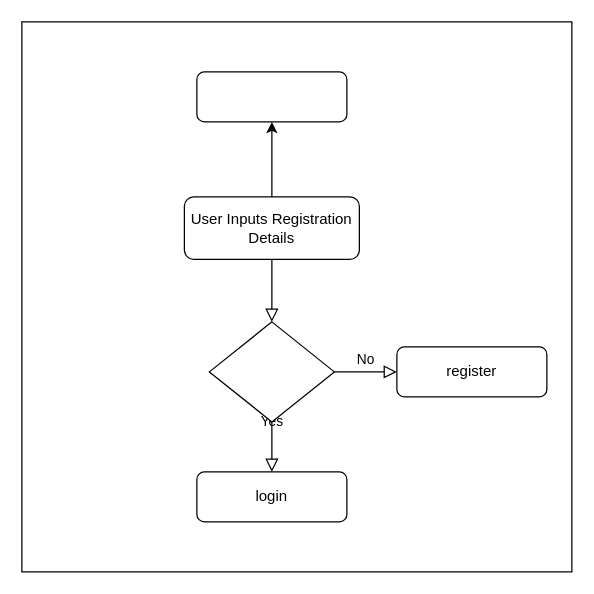
The diagram is 594 pixels wide and 594 high, and some of its shapes have lost their labels. Each missing label, with the centre of its shape:
check if email exist: [271,371]
start: [271,96]
